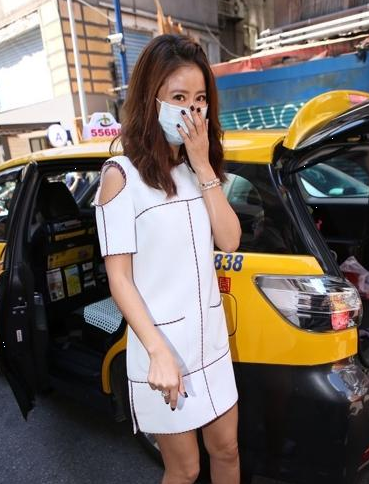face_mask: (156, 65, 206, 145)
